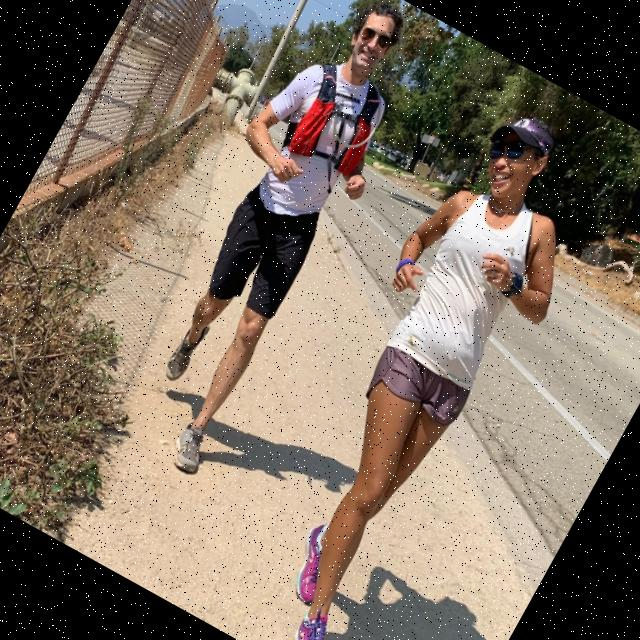Person: (198, 93, 628, 640), (89, 0, 445, 480)
